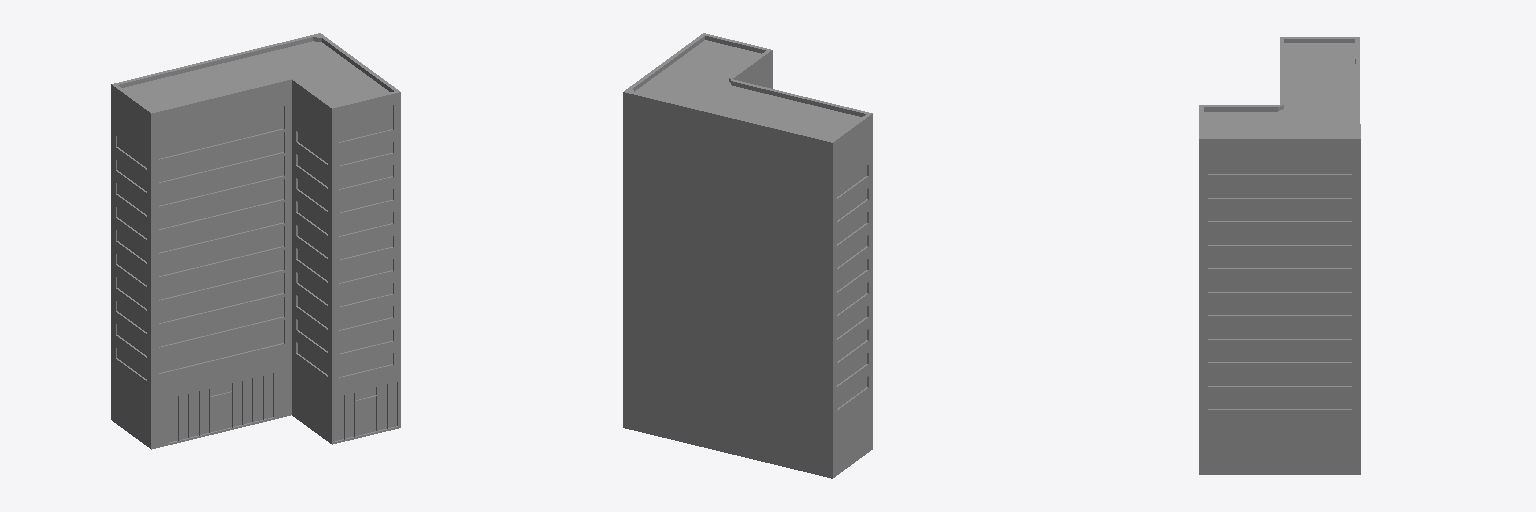
Rendered from edificioc_nuevo.obj.
3 views of the same model, side by side, from view 1: azimuth 30°, elevation 25°; view 2: azimuth 150°, elevation 25°; view 3: azimuth 270°, elevation 25° (orthographic).
Parts seen in each view (by area): view 1: Building10; view 2: Building10; view 3: Building10.
Boxes of the visible parts, box(x1,y1,x2,y2) form: Building10: box(111, 33, 400, 449); Building10: box(623, 33, 872, 478); Building10: box(1199, 37, 1360, 474).
Bounding box in the file's own units: 15 × 23 × 10.